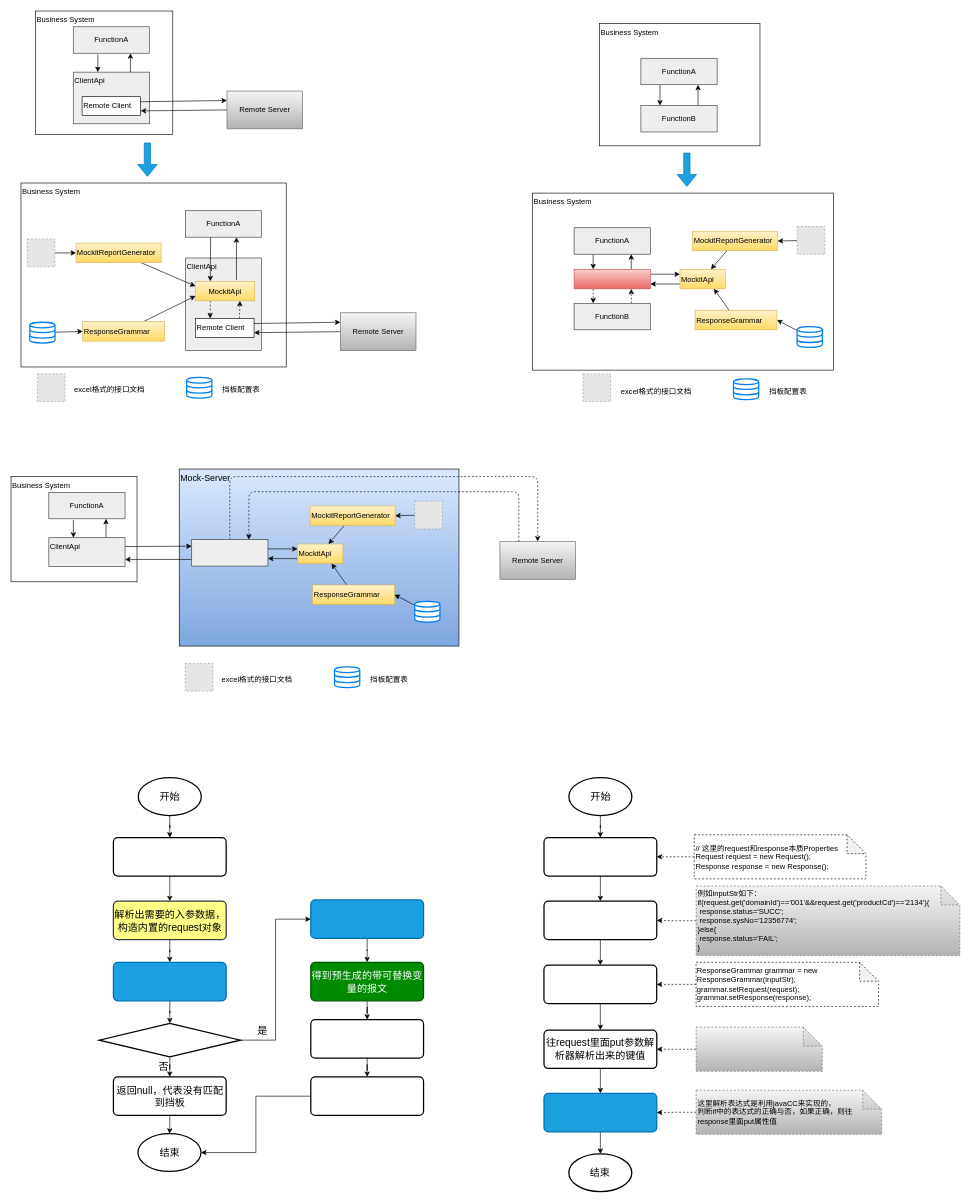
The diagram is 971 pixels wide and 1203 high, and some of its shapes have lost their labels. Grey dashed boxes stand in for pictures. The shapes that lost their labels are listed below. From the top down, each one's box as (x1, y1, x2, y2) in pixels, then its label:
(573, 269, 650, 289): Mockit
(191, 539, 268, 566): MockServerApi
(112, 837, 226, 876): 匹配基本的挡板配置
(543, 837, 657, 876): 构造Request对象和Response对象
(310, 899, 424, 939): 返回可替换的变量和值，构造内置的response对象
(543, 900, 657, 940): 得到配置的表达式 String inputStr="";
(112, 961, 226, 1001): 根据入参数据，进行更精确的匹配
(543, 964, 657, 1004): 初始化ResponseGrammar对象
(98, 1022, 241, 1057): 是否匹配到挡板？
(310, 1019, 424, 1058): 将内置response对象的键值替换报文中的变量，得到最终的挡板模拟报文
(696, 1027, 822, 1071): 例如： request.put("domainId","001"); request.put("productCd","2134");
(310, 1076, 424, 1116): 将报文序列化，得到返回对象
(543, 1092, 657, 1132): 调用grammar的execute方法后，会根据表达式给response中写入属性值
